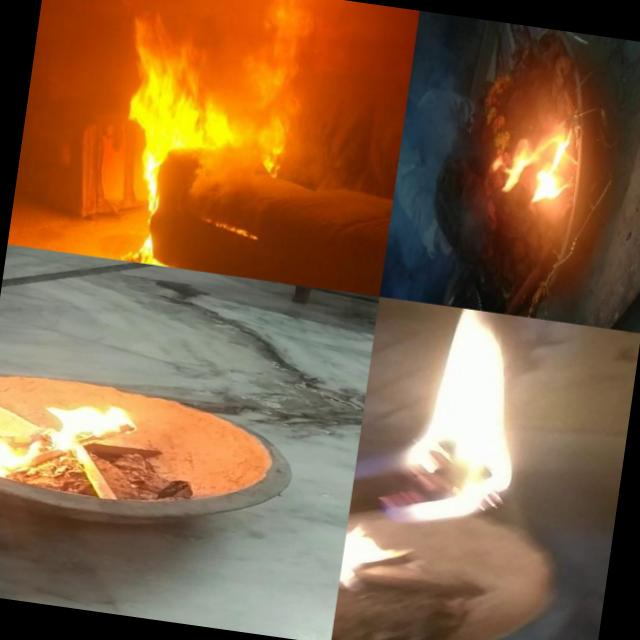fire: (348, 296, 552, 540), (0, 370, 136, 510), (126, 42, 237, 148), (482, 114, 585, 212), (334, 530, 404, 632), (125, 137, 168, 263), (200, 216, 258, 247), (224, 118, 270, 156), (264, 125, 293, 181)
smoke: (380, 28, 484, 306), (238, 17, 312, 127), (188, 144, 264, 208)
